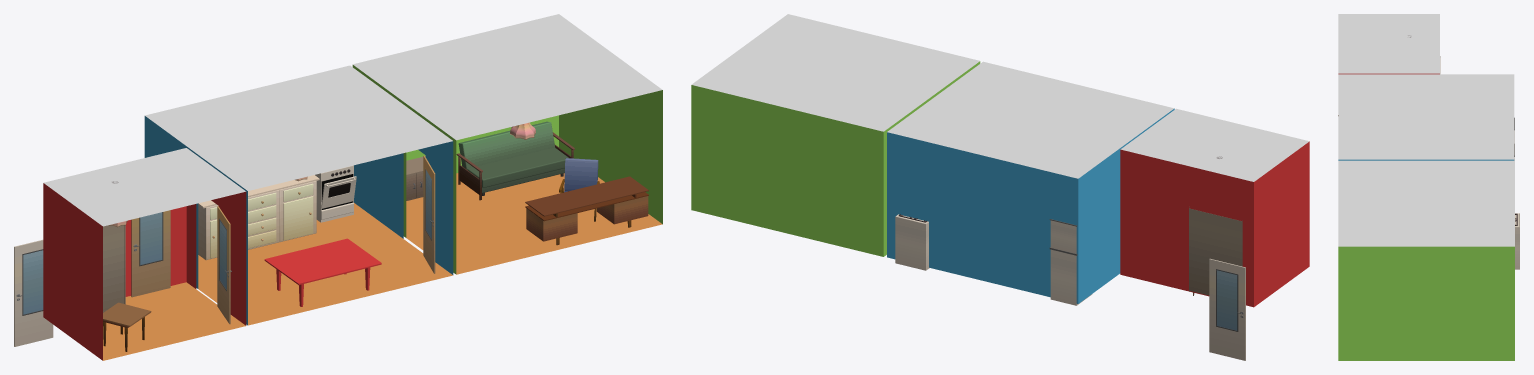
The model's file is pokój janka.glb.
3 renders of one model, left to right at view 1: azimuth 30°, elevation 25°; view 2: azimuth 150°, elevation 25°; view 3: azimuth 270°, elevation 25°, orthographic. The views are drawn at different scales.
Parts seen in each view (by area): view 1: Cube.003, Cube.001, Cube, couch1, kitchen_cabinet1, desk, table2.001, doors2, doors1, stove, wardrobe2, doors1.001 (+4 smaller); view 2: Cube.001, Cube.003, Cube, doors2, wardrobe2, stove, fridge, fridge.002; view 3: Cube.003, Cube.001, Cube, stove.
Boxes of the visible parts, x1,y1,x2,y2 form: Cube.003: (352,14,662,274); Cube.001: (144,65,453,325); Cube: (43,148,246,360); couch1: (456,121,574,200); kitchen_cabinet1: (198,175,319,260); desk: (525,176,648,245); table2.001: (264,238,381,306); doors2: (14,239,53,346); doors1: (131,210,170,297); stove: (315,165,356,222); wardrobe2: (103,225,125,312); doors1.001: (217,206,231,324); Cube.001: (887,61,1174,303); Cube.003: (691,14,980,256); Cube: (1120,108,1309,307); doors2: (1209,258,1245,360); wardrobe2: (1189,207,1242,295); stove: (895,214,929,270); fridge: (1049,247,1092,305); fridge.002: (1049,219,1076,253); Cube.003: (1338,160,1514,360); Cube.001: (1338,74,1514,160); Cube: (1338,14,1439,74); stove: (1515,213,1519,269).
Bounding box in the file's own units: 22.76 × 6.7 × 7.38.
19 materials, 12 textured.
